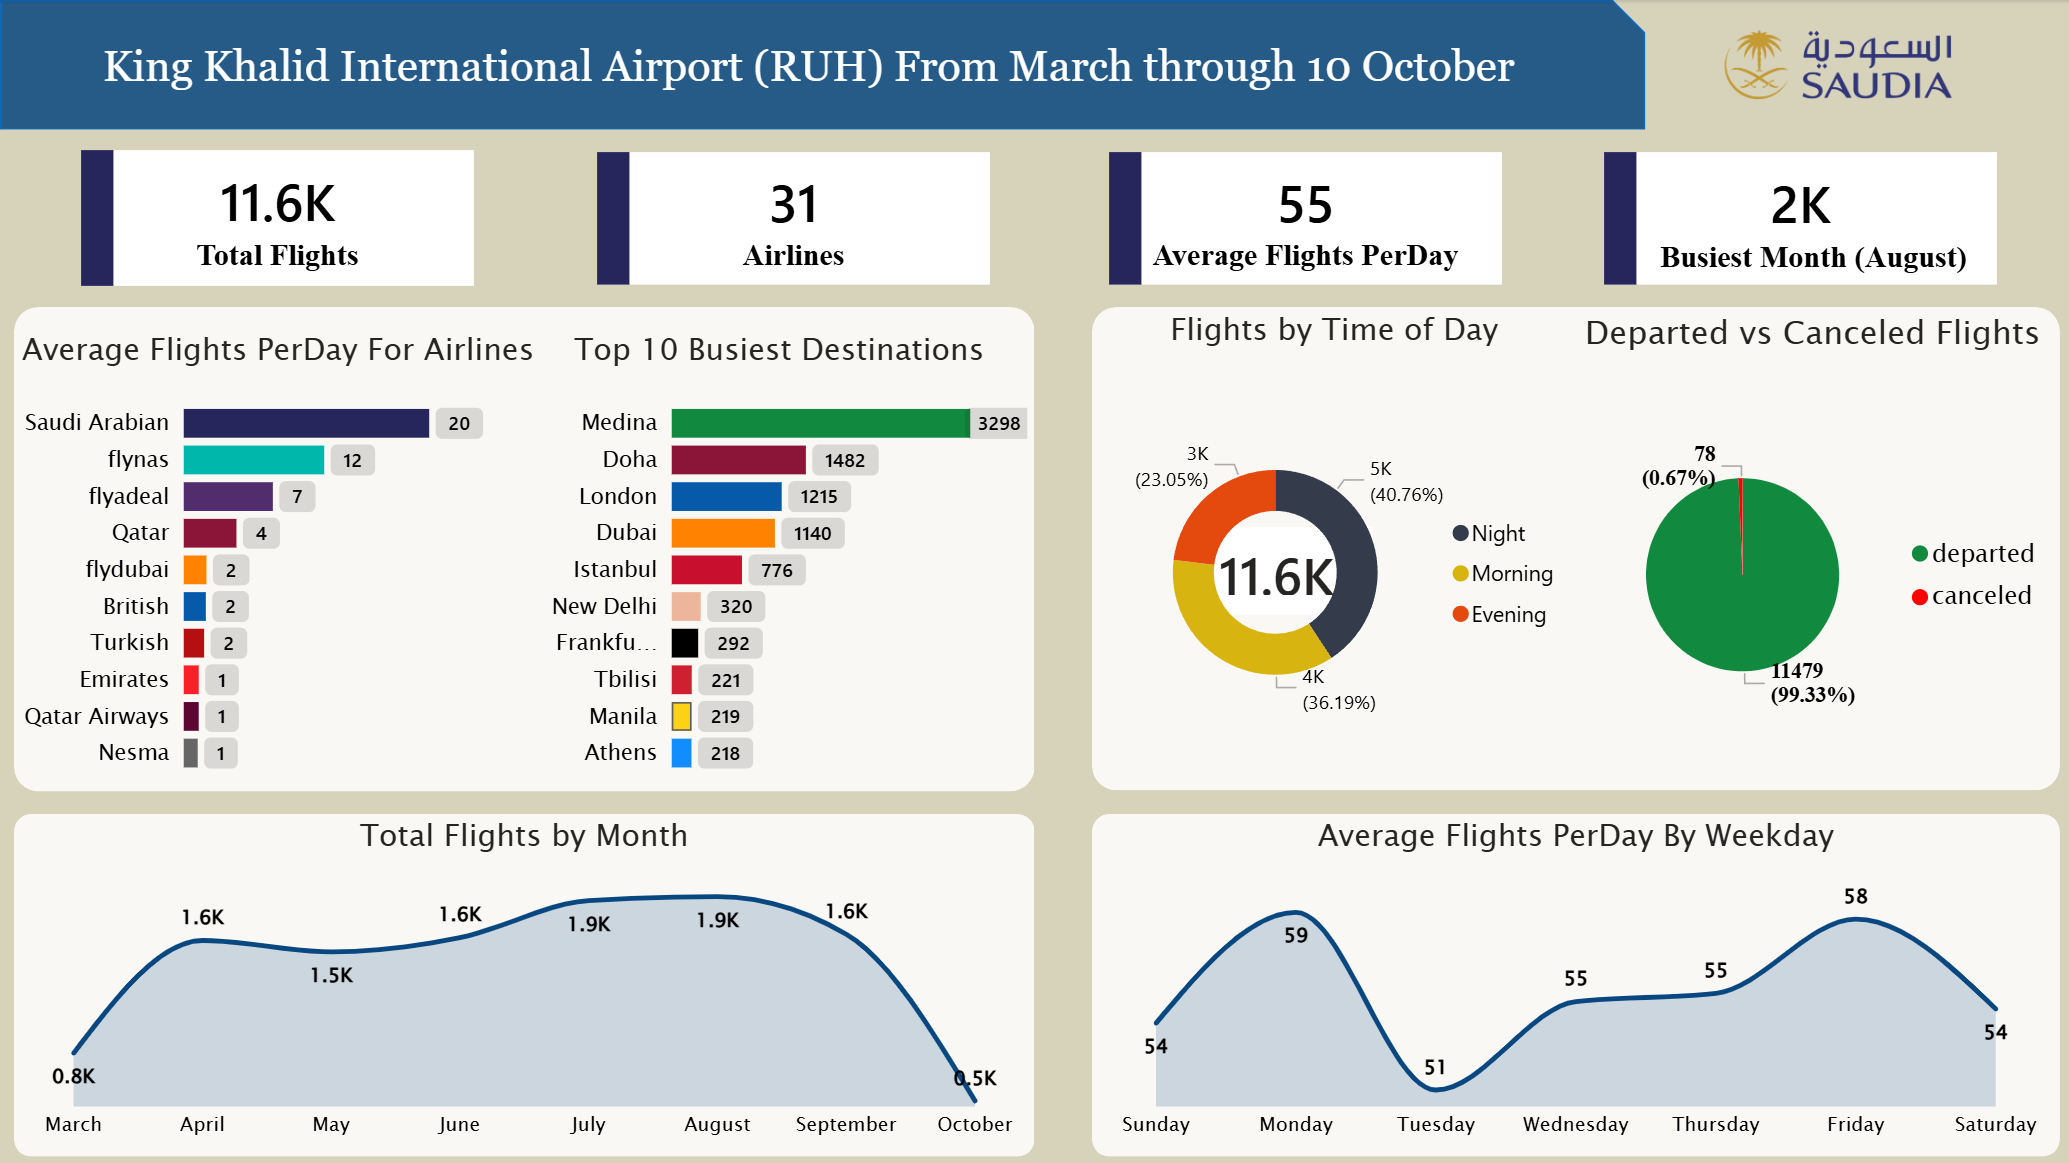

This screenshot's page, from the dashboard's own definition file:
{"tool":"powerbi","page":{"name":"King Khalid International Airport","canvas":[1280,720],"ordinal":0},"visuals":[{"type":"shape","box":[675.5,190.2,598.7,299],"z":1000},{"type":"cardVisual","fields":{"Data":["King Khalid International Airport Flights.Total Flights"]},"box":[724.8,320.8,129.3,64],"z":1500},{"type":"cardVisual","fields":{"Data":["King Khalid International Airport Flights.Airlines"]},"box":[364.3,89,253.6,92.2],"z":2000},{"type":"shape","box":[9,190.2,631.4,299.7],"z":3000},{"type":"cardVisual","fields":{"Data":["King Khalid International Airport Flights.Total Flights"]},"box":[45.5,87.7,253.6,94.1],"z":4000},{"type":"shape","box":[675.5,503.3,598.7,211.9],"z":5000},{"type":"cardVisual","fields":{"Data":["King Khalid International Airport Flights.Average Flights PerDay"]},"box":[681.3,89,253.6,92.8],"z":6000},{"type":"shape","box":[9,503.3,631.4,211.9],"z":7000},{"type":"lineChart","title":"Average Flights PerDay By Weekday","fields":{"Category":["King Khalid International Airport Flights.Day Name"],"Y":["King Khalid International Airport Flights.Average Flights PerDay"]},"box":[675.5,503.3,598.7,211.9],"z":8000},{"type":"barChart","title":"Average Flights PerDay For Airlines","fields":{"Category":["King Khalid International Airport Flights.airline_name"],"Y":["King Khalid International Airport Flights.Average Flights PerDay"]},"box":[9,203,370.1,286.2],"z":9000},{"type":"donutChart","title":"Flights by Time of Day","fields":{"Y":["King Khalid International Airport Flights.Total Flights"],"Category":["King Khalid International Airport Flights.Period of Day"]},"box":[675.5,190.8,299.7,299],"z":10000},{"type":"cardVisual","fields":{"Data":["King Khalid International Airport Flights.Total Flights"]},"box":[987.4,89,253.6,92.8],"z":11000},{"type":"shape","box":[0,0,1017.6,80.3],"z":12000},{"type":"textbox","box":[0.7,20.8,998.9,47.1],"z":13000},{"type":"image","box":[999.5,0,274.7,80],"z":14000},{"type":"barChart","title":"Top 10 Busiest Destinations","fields":{"Category":["King Khalid International Airport Flights.destination_airport_name"],"Y":["King Khalid International Airport Flights.Total Flights"]},"box":[323.4,203,317,286.2],"z":15000},{"type":"textbox","box":[1011.7,142.8,219.6,33.3],"z":16000},{"type":"pieChart","title":"Departed vs Canceled Flights","fields":{"Category":["King Khalid International Airport Flights.status"],"Y":["King Khalid International Airport Flights.Total Flights"]},"box":[969.4,190.8,304.2,299],"z":17000},{"type":"lineChart","title":"Total Flights by Month","fields":{"Y":["King Khalid International Airport Flights.Total Flights"],"Category":["King Khalid International Airport Flights.Month Name"]},"box":[9,503.3,631.4,211.9],"z":18000}]}

Visuals, with their boxes in screenshot pixels (x1, y1, x2, y2), scaled from the page's 1280x720 canvas onto the 2069x1163 screenshot:
shape: [left=1092, top=307, right=2060, bottom=790]
cardVisual - King Khalid International Airport Flights.Total Flights: [left=1172, top=518, right=1381, bottom=622]
cardVisual - King Khalid International Airport Flights.Airlines: [left=589, top=144, right=999, bottom=293]
shape: [left=15, top=307, right=1035, bottom=791]
cardVisual - King Khalid International Airport Flights.Total Flights: [left=74, top=142, right=483, bottom=294]
shape: [left=1092, top=813, right=2060, bottom=1155]
cardVisual - King Khalid International Airport Flights.Average Flights PerDay: [left=1101, top=144, right=1511, bottom=294]
shape: [left=15, top=813, right=1035, bottom=1155]
"Average Flights PerDay By Weekday" lineChart: [left=1092, top=813, right=2060, bottom=1155]
"Average Flights PerDay For Airlines" barChart: [left=15, top=328, right=613, bottom=790]
"Flights by Time of Day" donutChart: [left=1092, top=308, right=1576, bottom=791]
cardVisual - King Khalid International Airport Flights.Total Flights: [left=1596, top=144, right=2006, bottom=294]
shape: [left=0, top=0, right=1645, bottom=130]
textbox: [left=1, top=34, right=1616, bottom=110]
image: [left=1616, top=0, right=2060, bottom=129]
"Top 10 Busiest Destinations" barChart: [left=523, top=328, right=1035, bottom=790]
textbox: [left=1635, top=231, right=1990, bottom=284]
"Departed vs Canceled Flights" pieChart: [left=1567, top=308, right=2059, bottom=791]
"Total Flights by Month" lineChart: [left=15, top=813, right=1035, bottom=1155]
